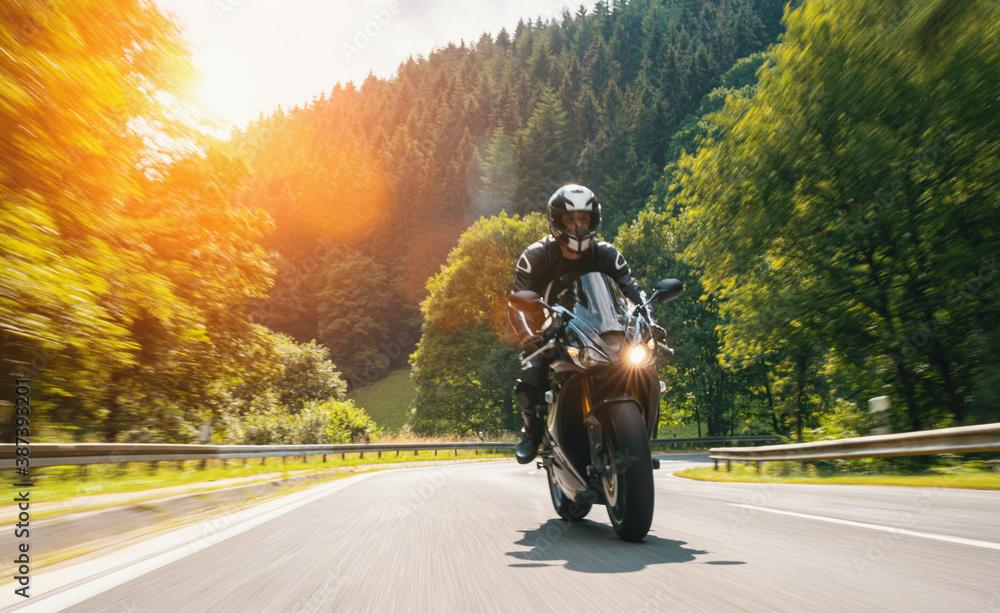helmet: (546, 183, 602, 255)
